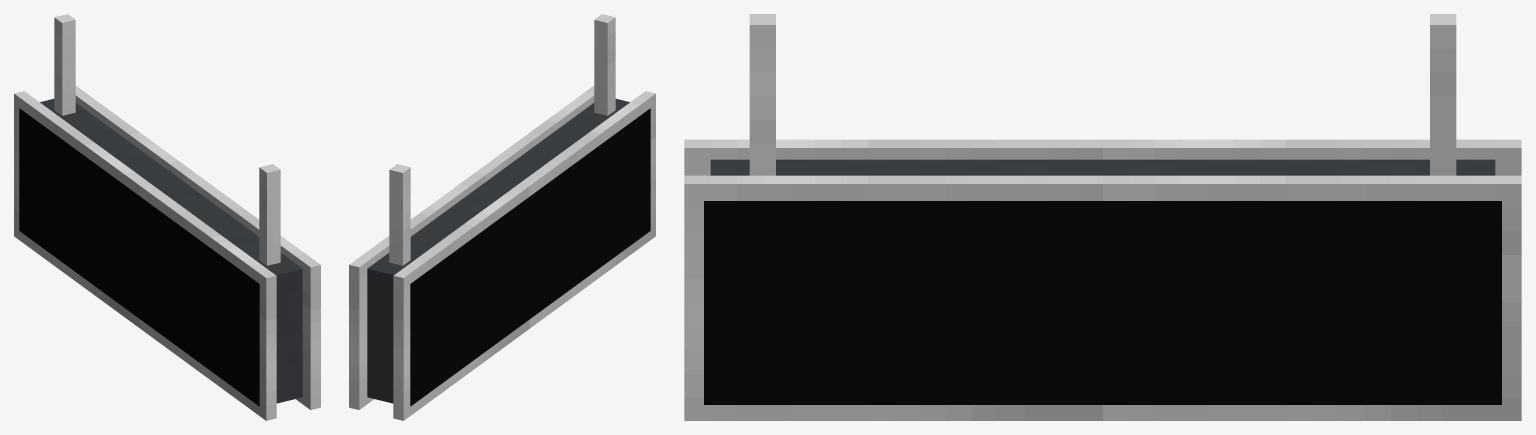
The model's file is mtr_pids_3.obj.
3 renders of one model, left to right at view 1: azimuth 30°, elevation 25°; view 2: azimuth 150°, elevation 25°; view 3: azimuth 270°, elevation 25°, orthographic. The views are drawn at different scales.
Visible parts, largest first — view 1: Pole; view 2: Pole; view 3: Pole.
Boxes of the visible parts, x1,y1,x2,y2 form: Pole: (14,14,320,420); Pole: (349,14,655,420); Pole: (684,14,1521,420).
Size of the model in its own units: 0.2562 by 1 by 2.
Materials: 3 (3 with a texture image).
